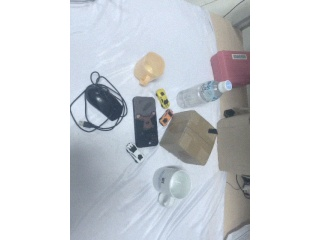bottle: (176, 80, 232, 109)
box: (159, 109, 217, 166), (216, 112, 251, 174)
cup: (151, 166, 192, 208), (133, 51, 166, 87)
mouse: (85, 84, 127, 122)
phone: (129, 92, 162, 149)
toy_car: (125, 142, 143, 163), (156, 89, 169, 110), (158, 110, 173, 126)
